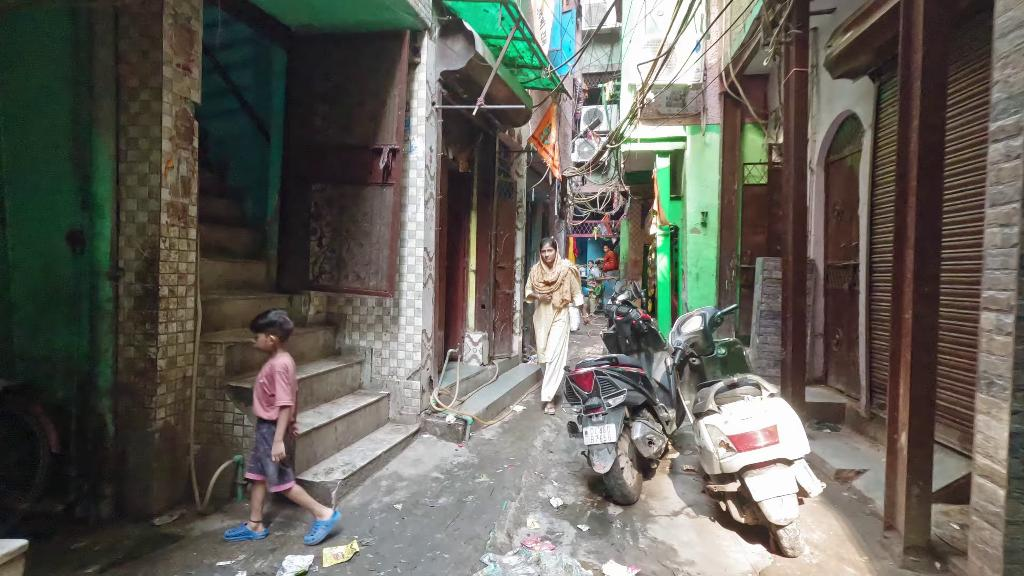garbage: (320, 535, 361, 568), (275, 553, 314, 576), (600, 557, 644, 576), (521, 534, 557, 551)
